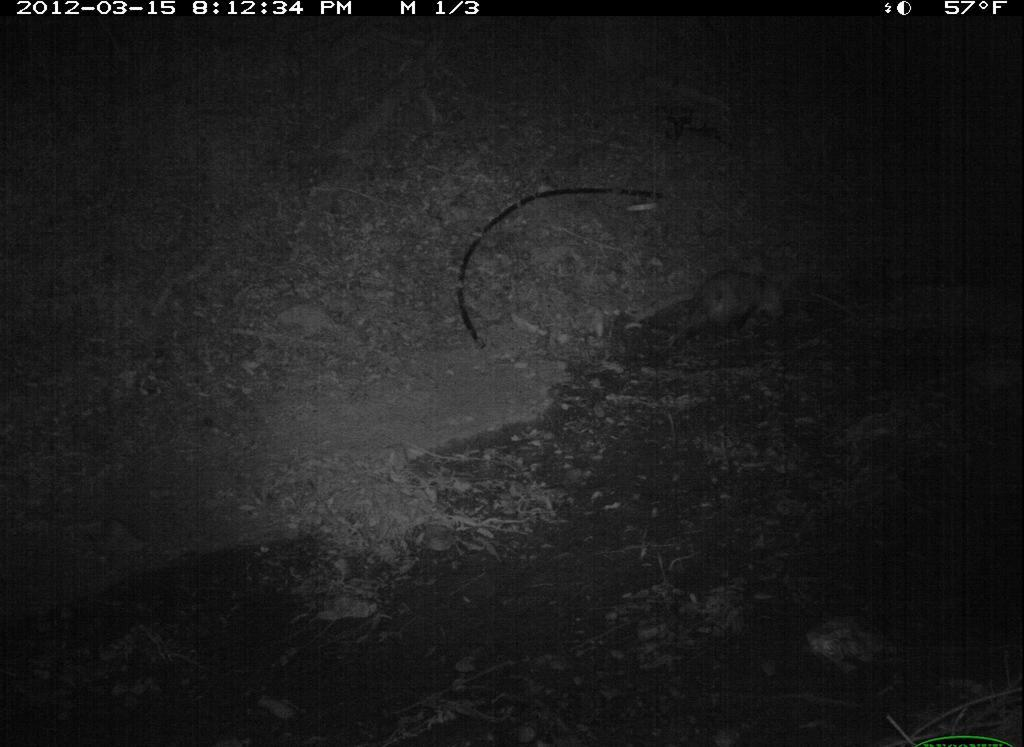opossum: (666, 245, 802, 361)
